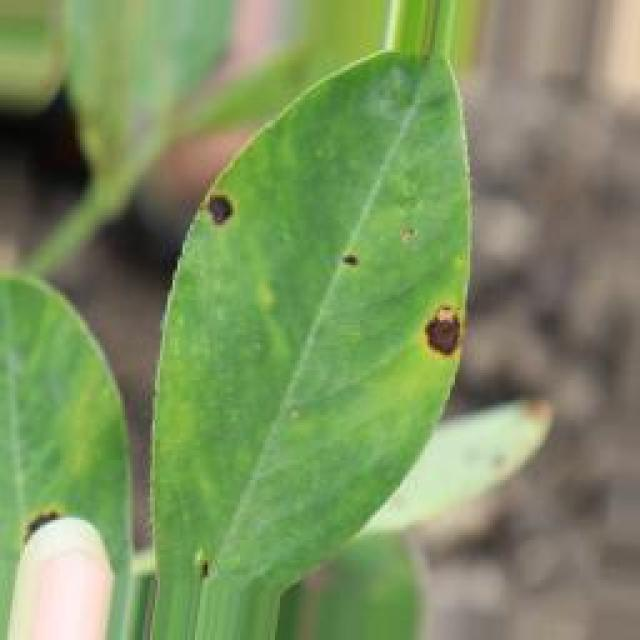Yellowish: (396, 286, 481, 386), (187, 175, 245, 252), (331, 218, 379, 304)
